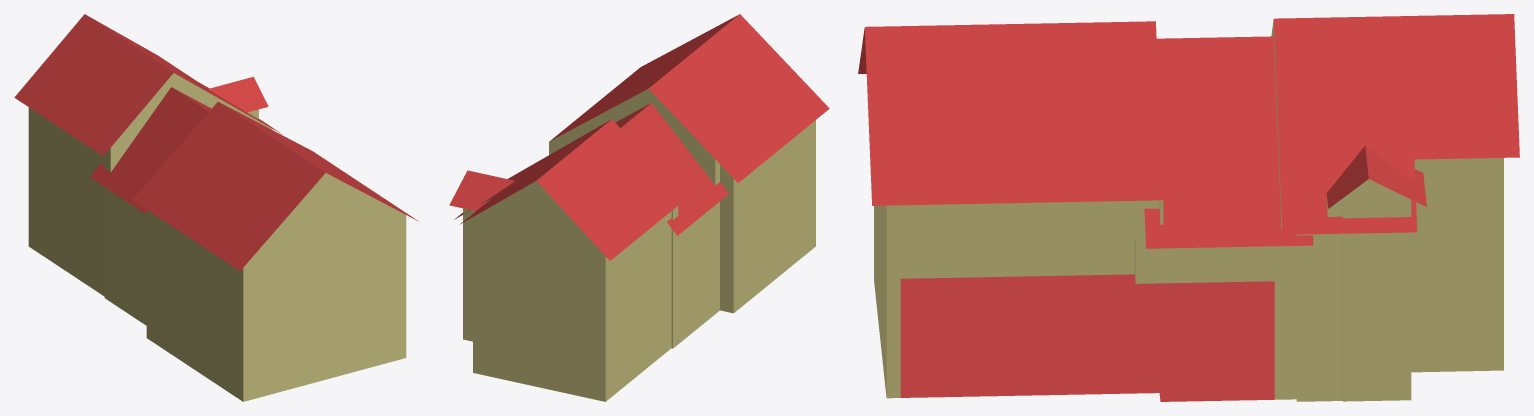
3 views of the same model, side by side, from view 1: azimuth 30°, elevation 25°; view 2: azimuth 150°, elevation 25°; view 3: azimuth 270°, elevation 25° (orthographic). The views are drawn at different scales.
Size of the model in its own units: 16.53 by 32.8 by 16.89.
